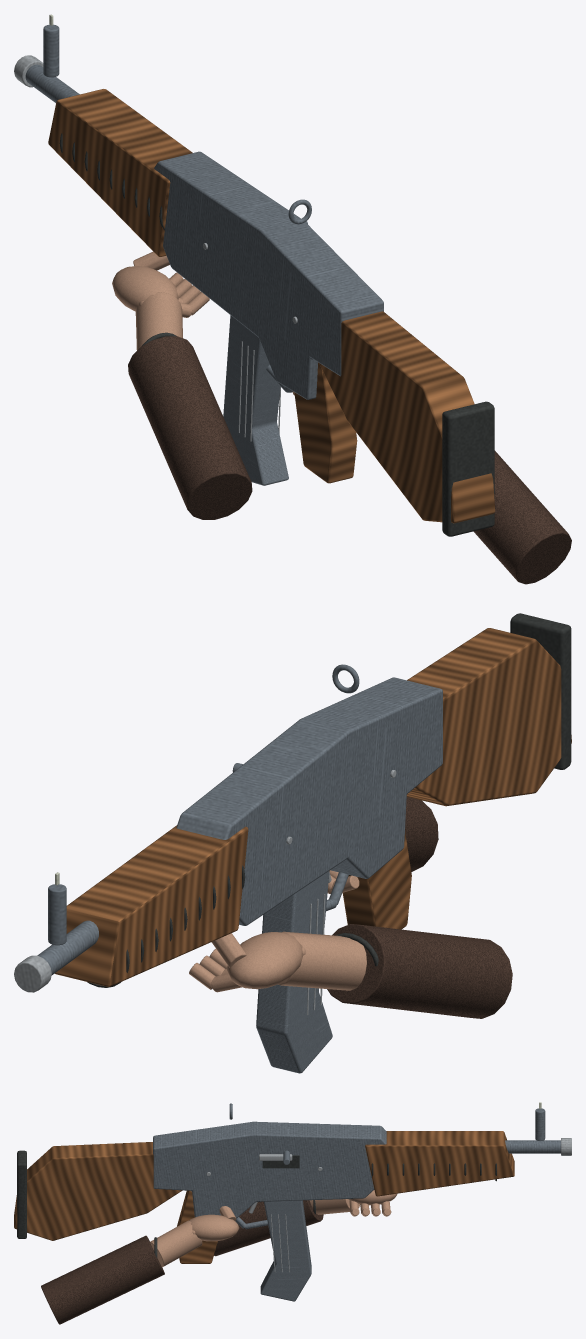
The model's file is type56.glb.
The picture shows the model from 3 angles, top to bottom: view 1: azimuth 30°, elevation 25°; view 2: azimuth 150°, elevation 25°; view 3: azimuth 270°, elevation 25°; orthographic projection. The views are drawn at different scales.
Parts seen in each view (by area): view 1: type56__BODY, type56__HAND_L, type56__MAGAZINE, type56__HAND_R; view 2: type56__BODY, type56__HAND_L, type56__MAGAZINE, type56__HAND_R; view 3: type56__BODY, type56__HAND_R, type56__MAGAZINE, type56__HAND_L.
Part boxes in pixels (box(x1,y1,x2,y2)): type56__BODY: box(14, 14, 495, 536); type56__HAND_L: box(112, 251, 252, 519); type56__MAGAZINE: box(223, 315, 288, 485); type56__HAND_R: box(292, 391, 571, 584); type56__BODY: box(14, 613, 571, 992); type56__HAND_L: box(189, 924, 512, 1018); type56__MAGAZINE: box(256, 871, 332, 1073); type56__HAND_R: box(327, 797, 438, 893); type56__BODY: box(14, 1102, 571, 1263); type56__HAND_R: box(41, 1206, 239, 1324); type56__MAGAZINE: box(260, 1200, 311, 1301); type56__HAND_L: box(214, 1190, 397, 1256).
Bounding box in the file's own units: 0.3294 × 0.3873 × 1.
7 materials, 7 textured.
